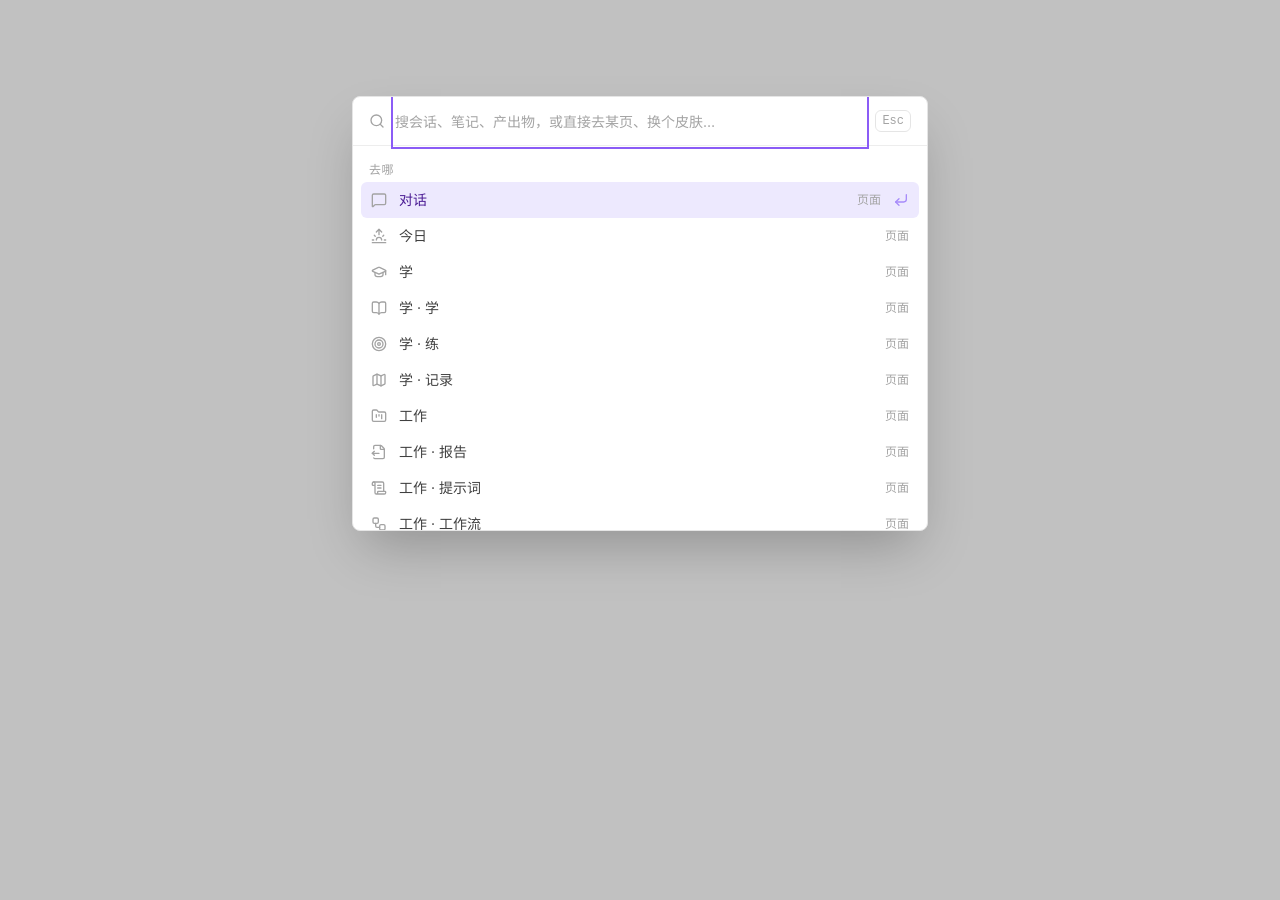
it: CommandPalette › 输入「仪表盘」能过滤出那一页的直达项
Type "仪表盘" into the field with placeholder "搜会话、笔记、产出物，或直接去某页、换个皮肤…" at (630, 121), box 395,97 -> 865,145
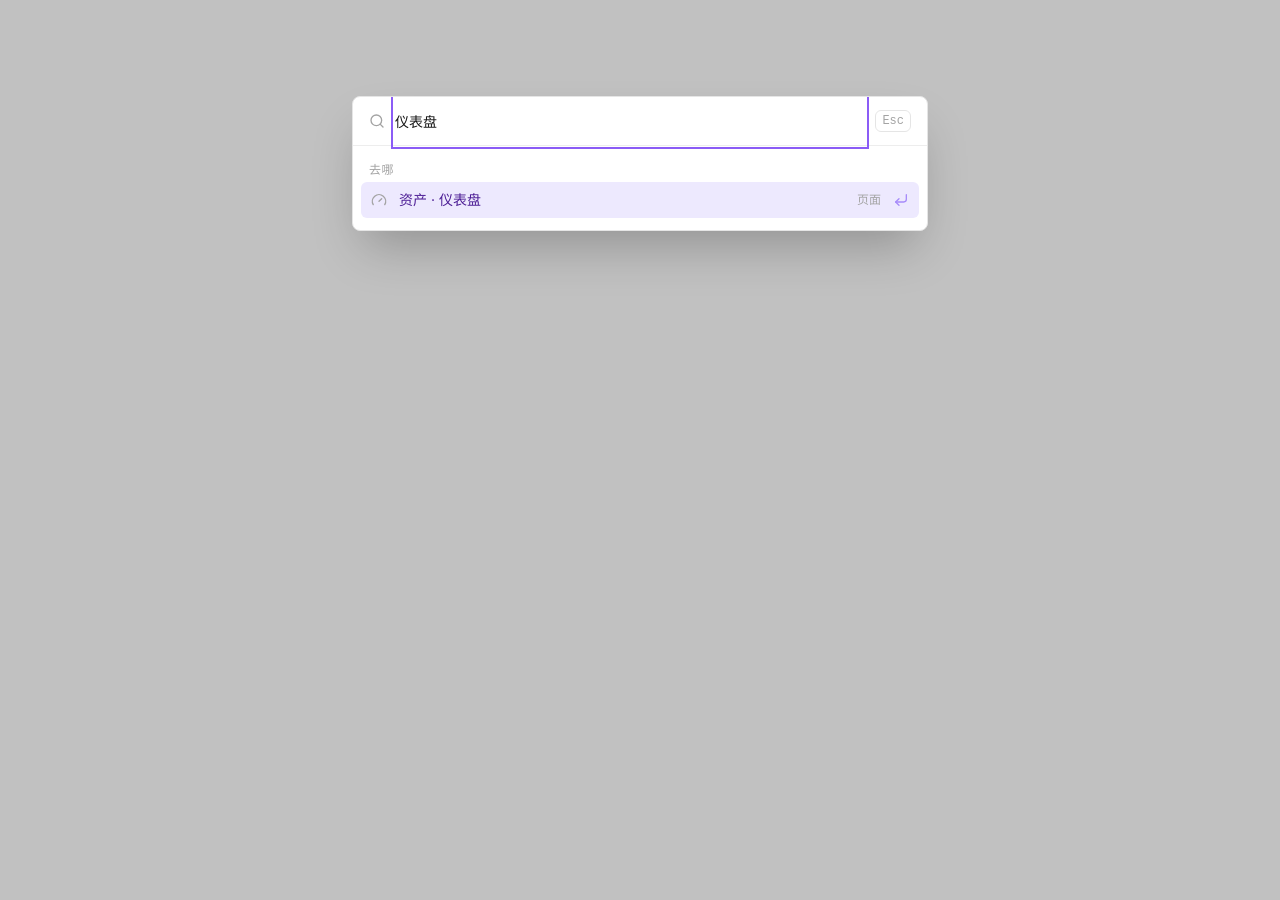
Expected: the button "资产 · 仪表盘 页面" is shown, 361,182 -> 919,218
